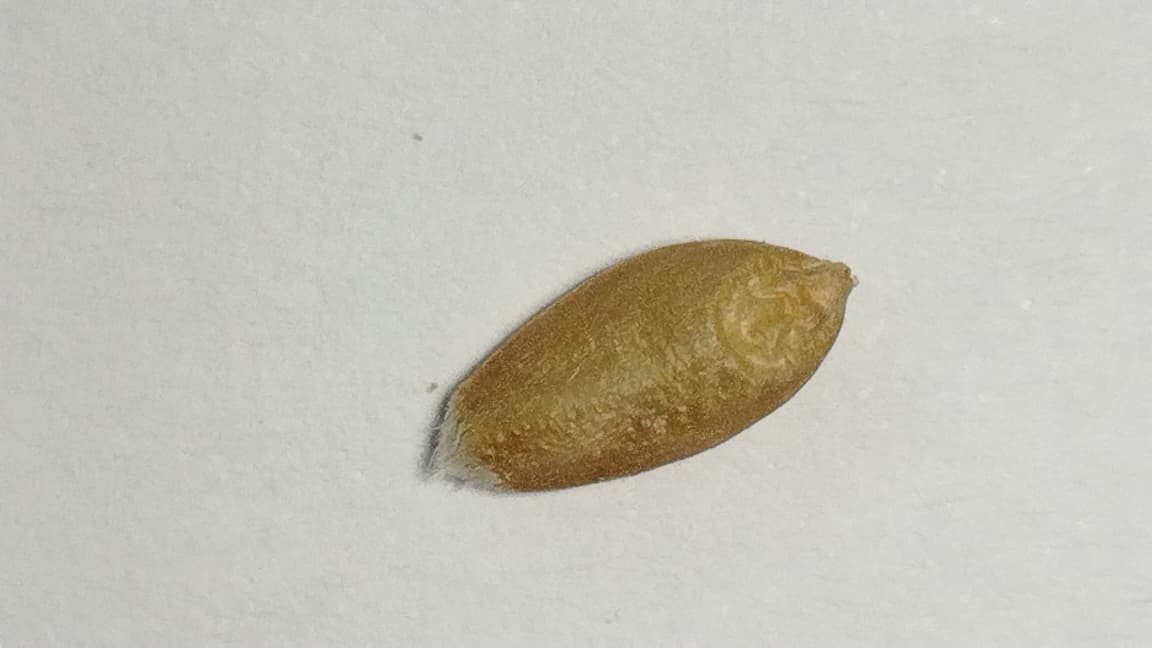healthy: (420, 239, 856, 494)
